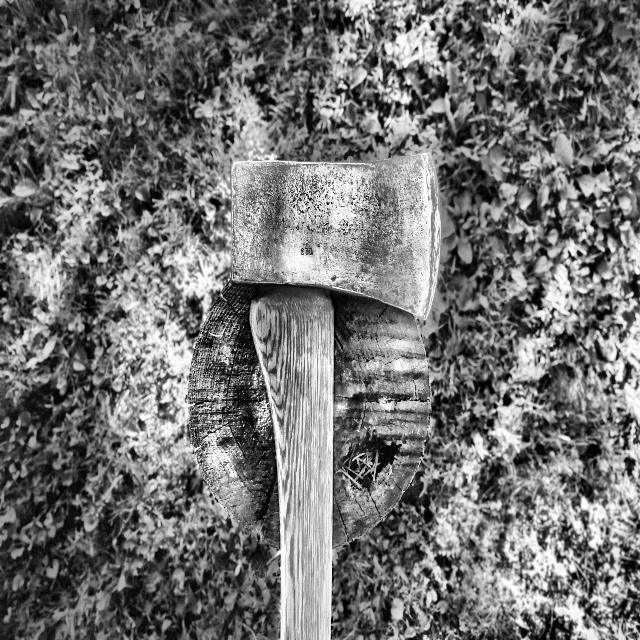kapak: (217, 144, 448, 640)
